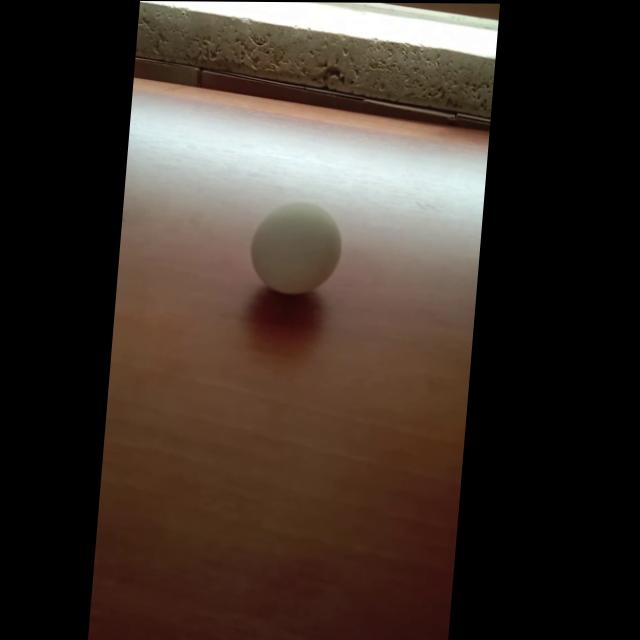white ball: (246, 201, 346, 296)
